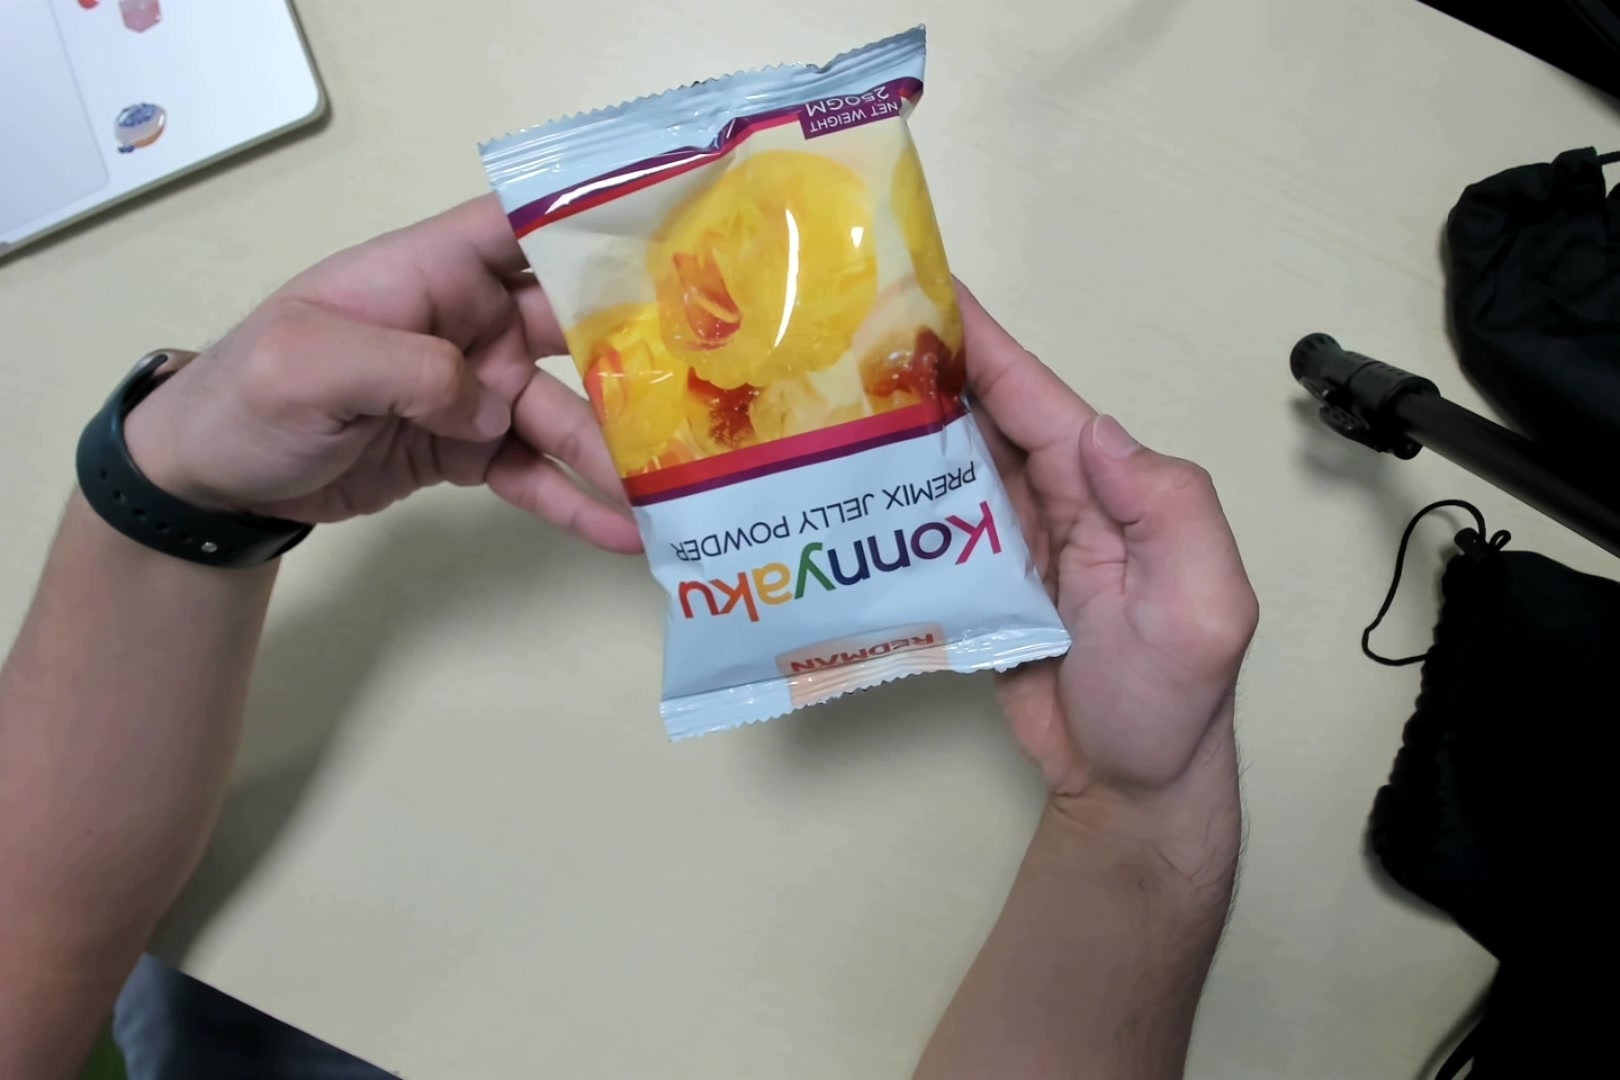OtherBakingNeeds_200-299g_Halal_NonHealthy: (475, 35, 1067, 751)
